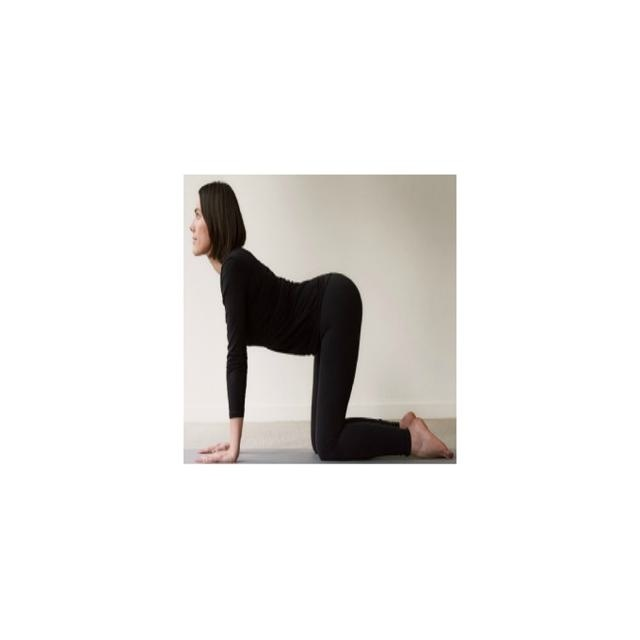Cow_Pose: (191, 181, 454, 464)
